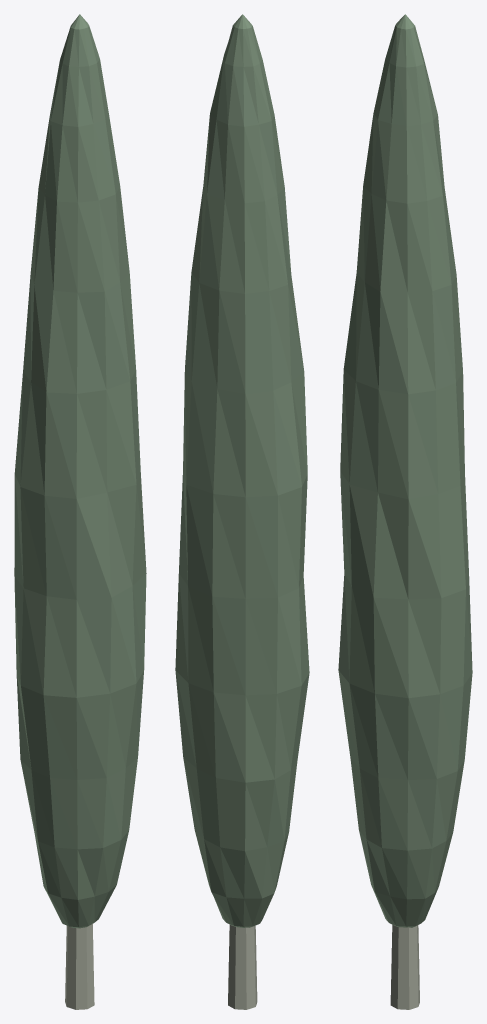
The model's file is cypress-b.glb.
3 renders of one model, left to right at view 1: azimuth 30°, elevation 25°; view 2: azimuth 150°, elevation 25°; view 3: azimuth 330°, elevation 25°, orthographic.
Parts seen in each view (by area): view 1: cypress-b; view 2: cypress-b; view 3: cypress-b.
Part boxes in pixels (left/top/right/bottom): cypress-b: left=14, top=14, right=146, bottom=1009; cypress-b: left=175, top=14, right=309, bottom=1009; cypress-b: left=338, top=14, right=472, bottom=1009.
Bounding box in the file's own units: 863 × 6800 × 772.
